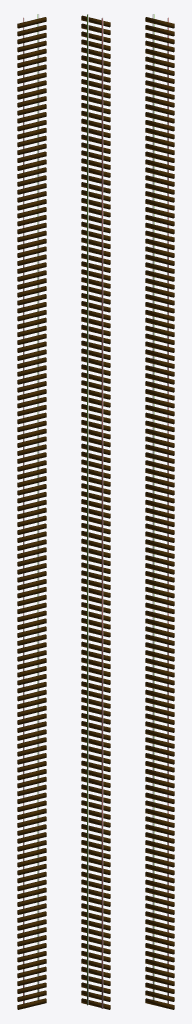
File: Rails_100m.fbx
The picture shows the model from 3 angles, left to right: view 1: azimuth 30°, elevation 25°; view 2: azimuth 150°, elevation 25°; view 3: azimuth 330°, elevation 25°; orthographic projection.
Visible parts, largest first — view 1: LP_Rails_100m; view 2: LP_Rails_100m; view 3: LP_Rails_100m.
Part boxes in pixels (x1,y1,x2,y2): LP_Rails_100m: (17,14,46,1009); LP_Rails_100m: (81,14,110,1009); LP_Rails_100m: (145,14,174,1009).
Bounding box in the file's own units: 3 × 100 × 0.34.
